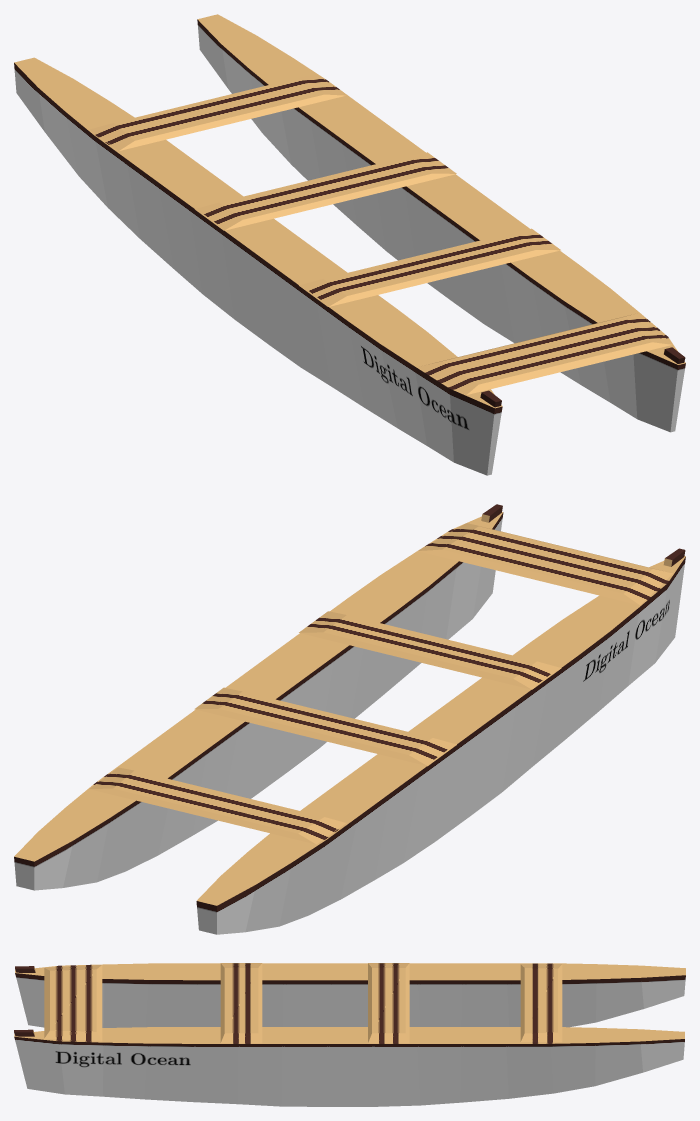
File: Pati.glb
3 renders of one model, top to bottom at view 1: azimuth 30°, elevation 25°; view 2: azimuth 150°, elevation 25°; view 3: azimuth 270°, elevation 25°, orthographic. The views are drawn at different scales.
Parts seen in each view (by area): view 1: Pati; view 2: Pati; view 3: Pati.
Boxes of the visible parts, x1,y1,x2,y2 form: Pati: (14,14,685,475); Pati: (14,504,685,934); Pati: (14,963,685,1106).
Bounding box in the file's own units: 1.58 × 0.6738 × 5.59.
Materials: 1 (1 with a texture image).
